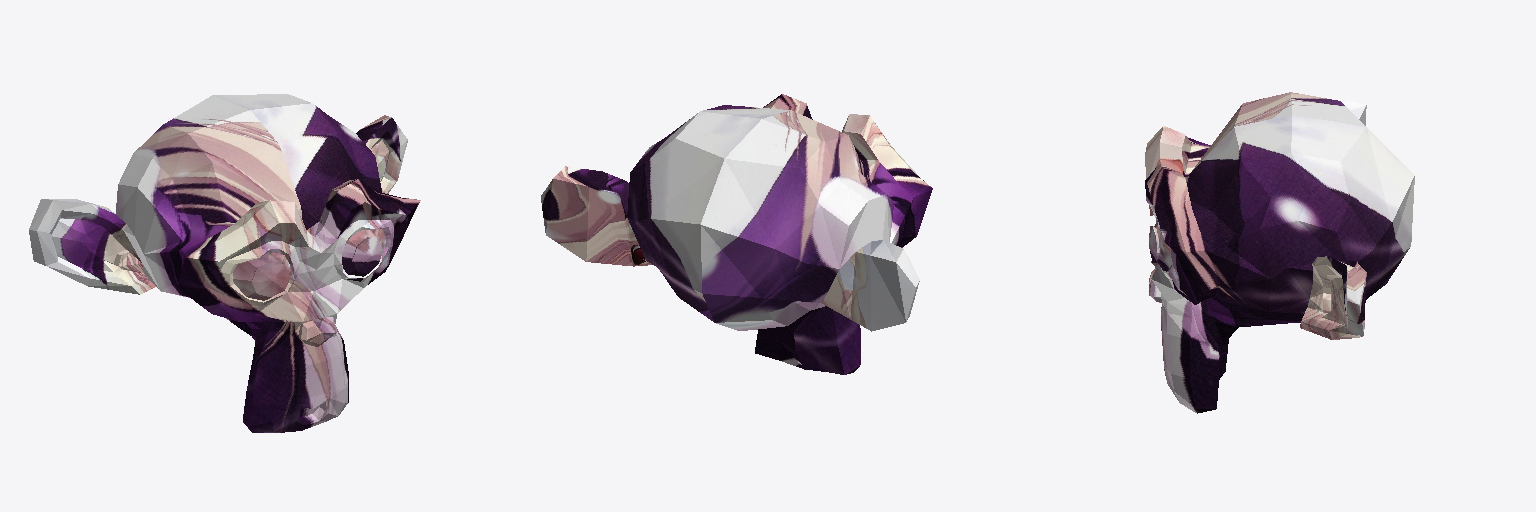
The picture shows the model from 3 angles: view 1: azimuth 30°, elevation 25°; view 2: azimuth 150°, elevation 25°; view 3: azimuth 270°, elevation 25°; orthographic projection.
Parts seen in each view (by area): view 1: Suzanne; view 2: Suzanne; view 3: Suzanne.
Boxes of the visible parts, <box> form: Suzanne: <box>29,94,420,432</box>; Suzanne: <box>541,94,932,374</box>; Suzanne: <box>1145,92,1414,413</box>.
Size of the model in its own units: 2.73 by 1.97 by 1.7.
Materials: 1 (1 with a texture image).